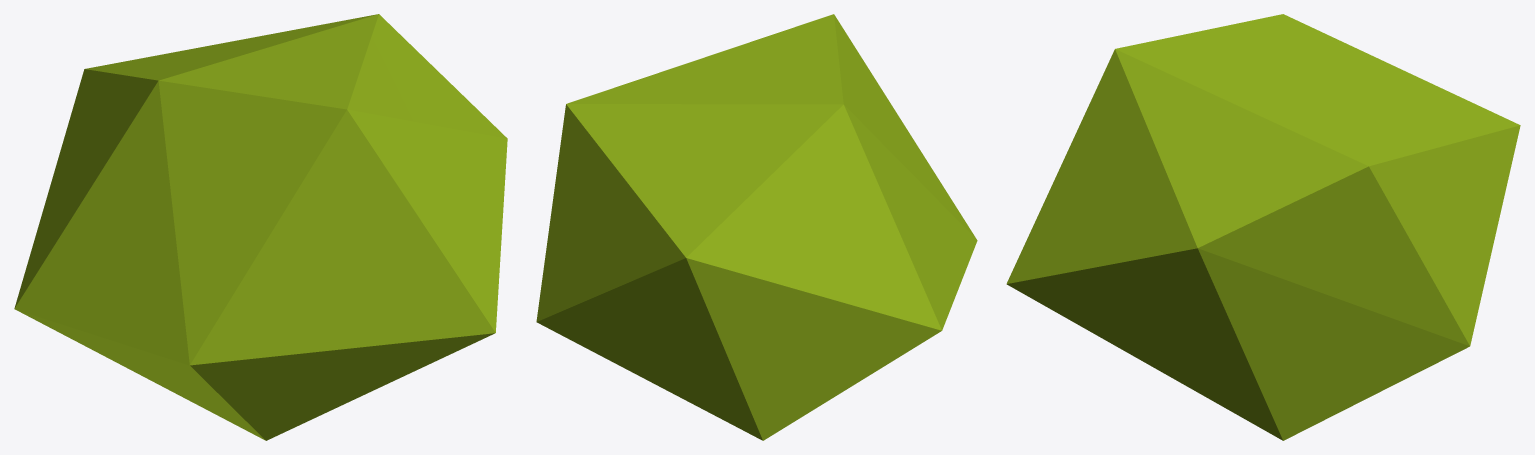
Rendered from Vegetation_Modular_Tree_Foliage_Clump_Small_09.fbx.
3 views of the same model, side by side, from view 1: azimuth 30°, elevation 25°; view 2: azimuth 150°, elevation 25°; view 3: azimuth 270°, elevation 25° (orthographic). The views are drawn at different scales.
Parts seen in each view (by area): view 1: Vegetation_Modular_Tree_Foliage_Clump_Small_09; view 2: Vegetation_Modular_Tree_Foliage_Clump_Small_09; view 3: Vegetation_Modular_Tree_Foliage_Clump_Small_09.
Boxes of the visible parts, x1,y1,x2,y2 form: Vegetation_Modular_Tree_Foliage_Clump_Small_09: (14, 14, 507, 440); Vegetation_Modular_Tree_Foliage_Clump_Small_09: (536, 14, 977, 440); Vegetation_Modular_Tree_Foliage_Clump_Small_09: (1006, 14, 1520, 440).
Bounding box in the file's own units: 1700 × 1335 × 1855.
